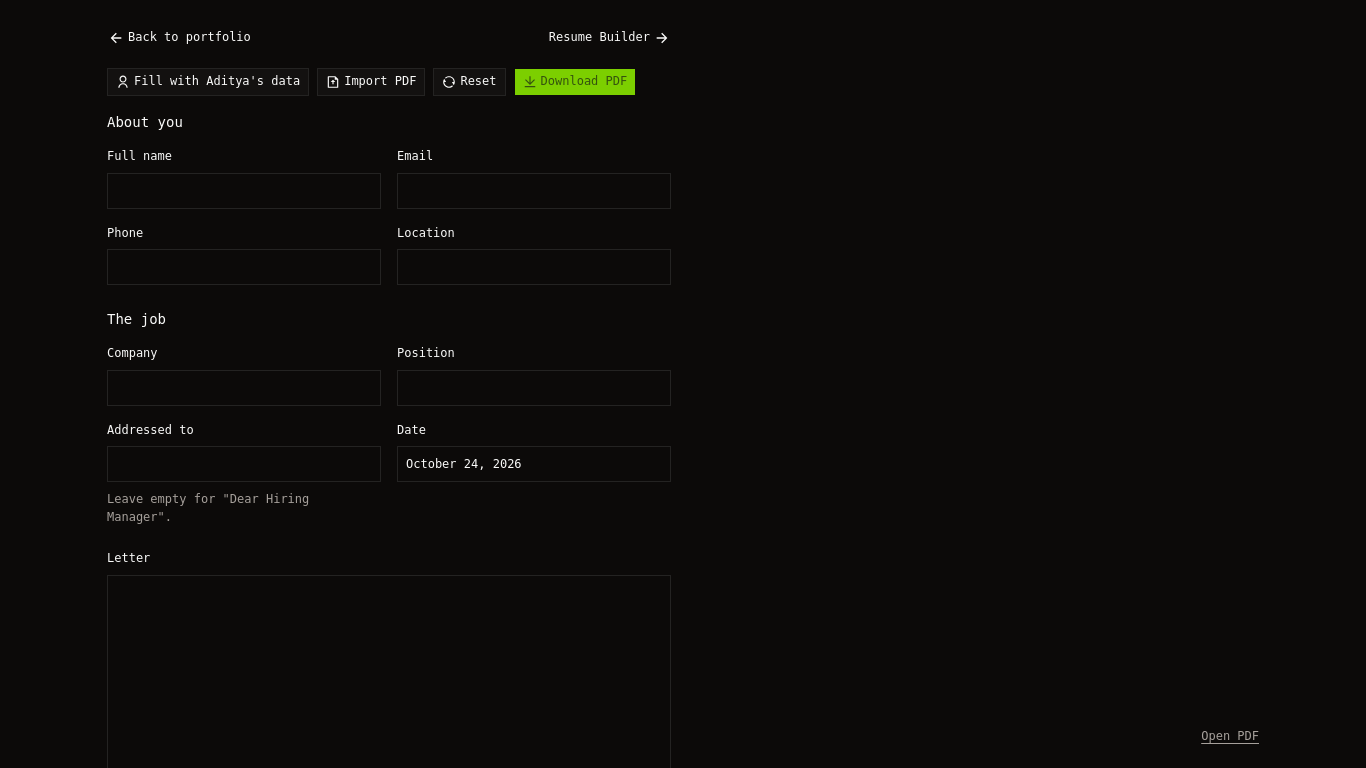
Test: CoverLetterPage › fills Aditya's letter and keeps the date
Click the button "Fill with Aditya's data": (208, 82) [107, 68, 309, 96]
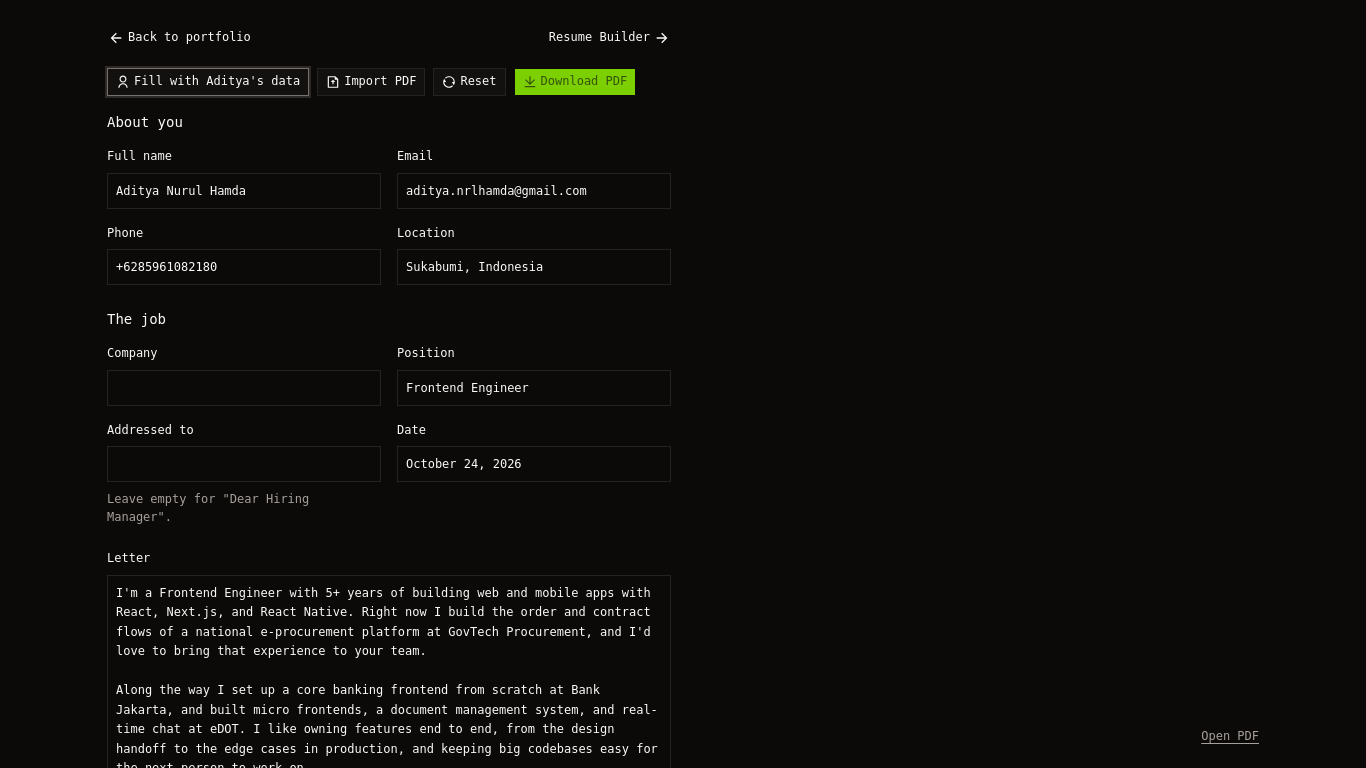
Check: the field labelled "Date" holds "October 24, 2026", box [397, 446, 671, 482]
Check: the field labelled "Full name" holds "Aditya Nurul Hamda", box [107, 172, 381, 208]
